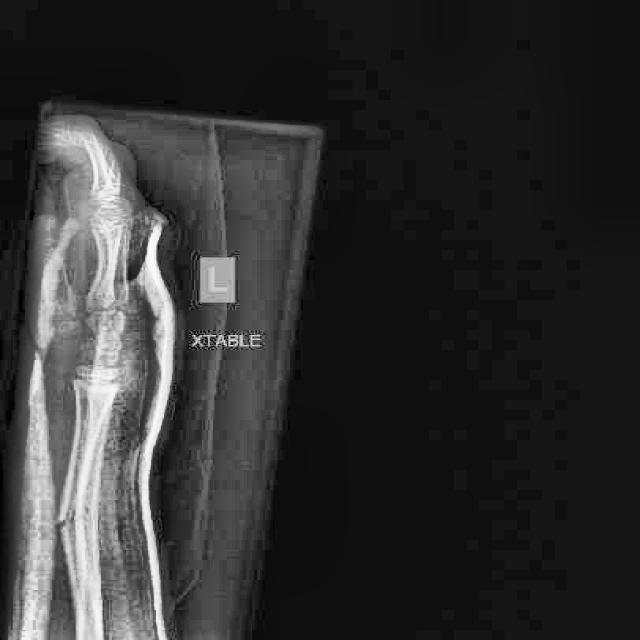forearm fracture: (51, 490, 100, 546)
